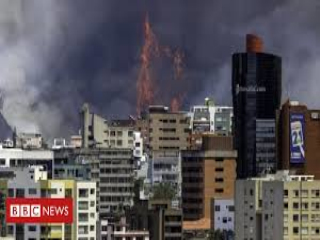fire: (130, 20, 194, 120)
smoke: (3, 44, 54, 139)
